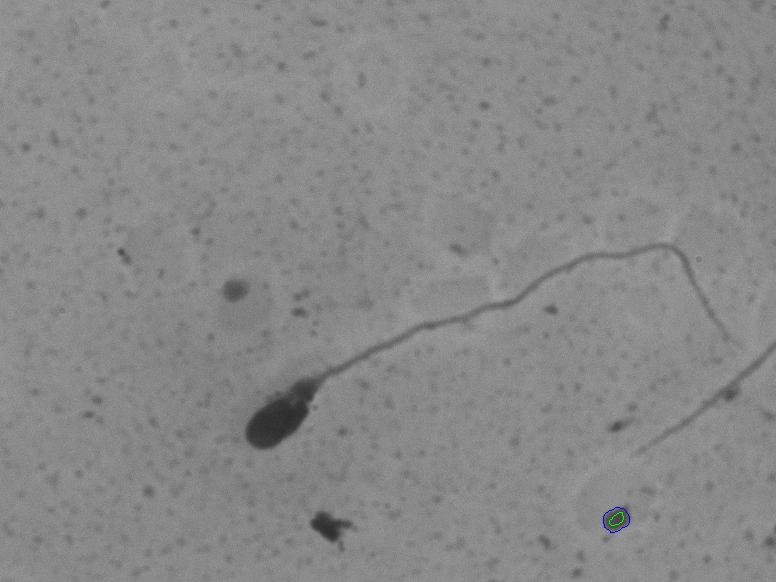Abnormal: (229, 209, 743, 478)
